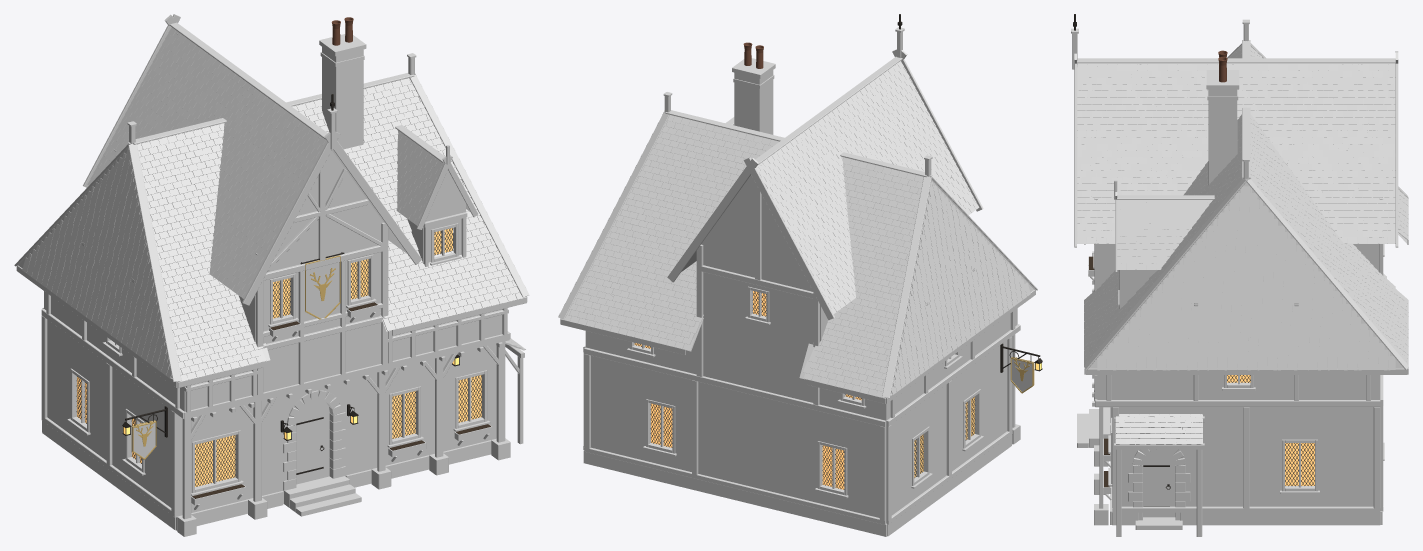
File: SilverbrookGoldenStagInn.glb
3 renders of one model, left to right at view 1: azimuth 30°, elevation 25°; view 2: azimuth 150°, elevation 25°; view 3: azimuth 270°, elevation 25°, orthographic. The views are drawn at different scales.
Visible parts, largest first — view 1: SM_SBGoldenStagInn_Roof, SM_SBGoldenStagInn_Timber, SM_SBGoldenStagInn_Masonry, SM_SBGoldenStagInn_Plaster, SM_SBGoldenStagInn_Details, SM_SBGoldenStagInn_Details_Door1; view 2: SM_SBGoldenStagInn_Roof, SM_SBGoldenStagInn_Masonry, SM_SBGoldenStagInn_Timber, SM_SBGoldenStagInn_Plaster, SM_SBGoldenStagInn_Details; view 3: SM_SBGoldenStagInn_Roof, SM_SBGoldenStagInn_Masonry, SM_SBGoldenStagInn_Timber, SM_SBGoldenStagInn_Plaster, SM_SBGoldenStagInn_Details_Door2, SM_SBGoldenStagInn_Details.
Boxes of the visible parts, x1=… form: SM_SBGoldenStagInn_Roof: x1=14, y1=22, x2=529, y2=381; SM_SBGoldenStagInn_Timber: x1=16, y1=14, x2=527, y2=519; SM_SBGoldenStagInn_Masonry: x1=42, y1=34, x2=510, y2=536; SM_SBGoldenStagInn_Plaster: x1=44, y1=150, x2=502, y2=411; SM_SBGoldenStagInn_Details: x1=76, y1=17, x2=490, y2=498; SM_SBGoldenStagInn_Details_Door1: x1=296, y1=400, x2=329, y2=484; SM_SBGoldenStagInn_Roof: x1=558, y1=56, x2=1037, y2=398; SM_SBGoldenStagInn_Masonry: x1=583, y1=58, x2=1020, y2=536; SM_SBGoldenStagInn_Timber: x1=560, y1=27, x2=1035, y2=524; SM_SBGoldenStagInn_Plaster: x1=585, y1=175, x2=1017, y2=420; SM_SBGoldenStagInn_Details: x1=634, y1=14, x2=1042, y2=489; SM_SBGoldenStagInn_Roof: x1=1077, y1=40, x2=1408, y2=445; SM_SBGoldenStagInn_Masonry: x1=1077, y1=70, x2=1382, y2=529; SM_SBGoldenStagInn_Timber: x1=1071, y1=19, x2=1408, y2=536; SM_SBGoldenStagInn_Plaster: x1=1097, y1=244, x2=1380, y2=399; SM_SBGoldenStagInn_Details_Door2: x1=1143, y1=451, x2=1175, y2=517; SM_SBGoldenStagInn_Details: x1=1073, y1=14, x2=1314, y2=487.
Bounding box in the file's own units: 13.68 × 13.78 × 10.08.
